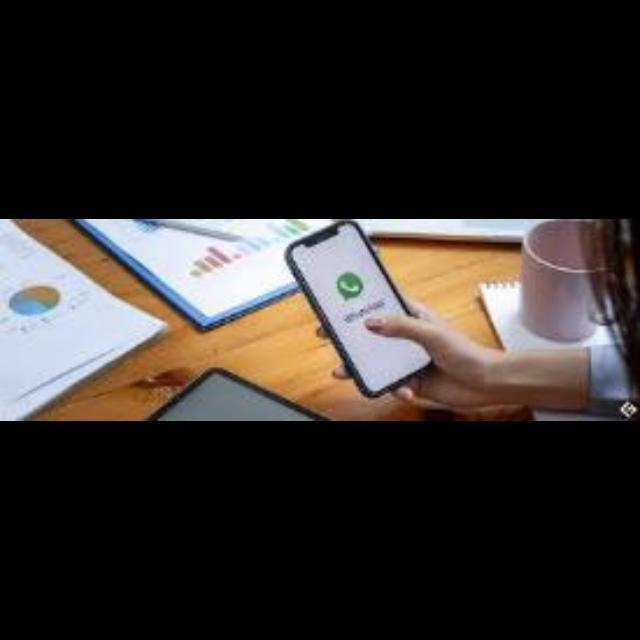PhoneUse: (285, 225, 431, 399)
